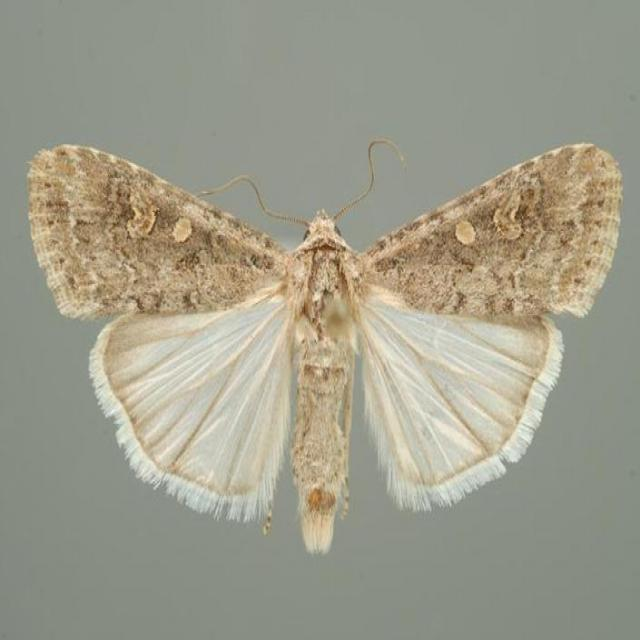BeetArmyWorm-Adult-: (21, 126, 624, 565)
